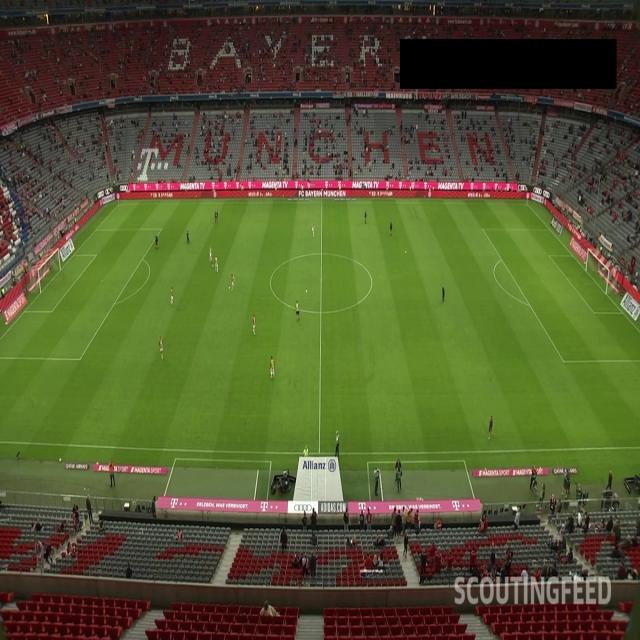ball: (304, 286, 310, 295), (211, 261, 215, 269), (404, 250, 408, 257), (228, 284, 232, 289), (488, 435, 490, 441)
player: (486, 411, 496, 435), (268, 354, 277, 380), (159, 336, 165, 358), (170, 284, 175, 306), (231, 273, 236, 290), (214, 256, 219, 273), (296, 300, 300, 321), (252, 312, 256, 333), (208, 245, 213, 261), (186, 227, 191, 242), (441, 286, 446, 301), (214, 208, 219, 222), (155, 232, 159, 248), (311, 222, 315, 236), (389, 221, 393, 235), (364, 211, 368, 223)
